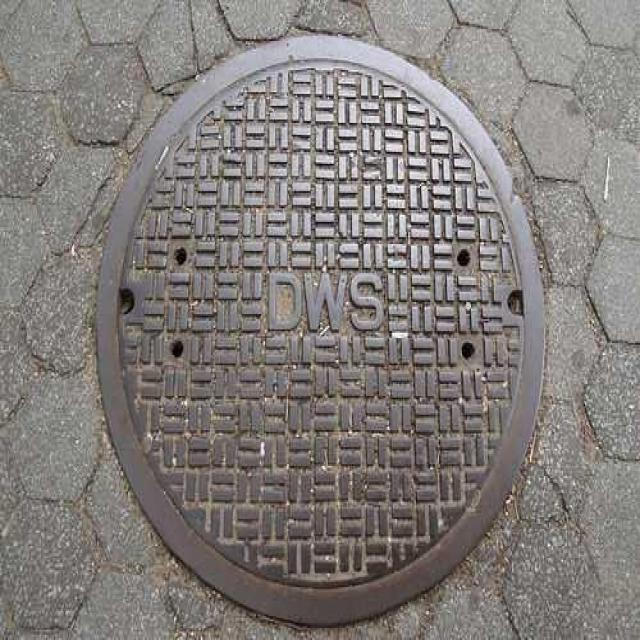manhole: (95, 32, 547, 631)
